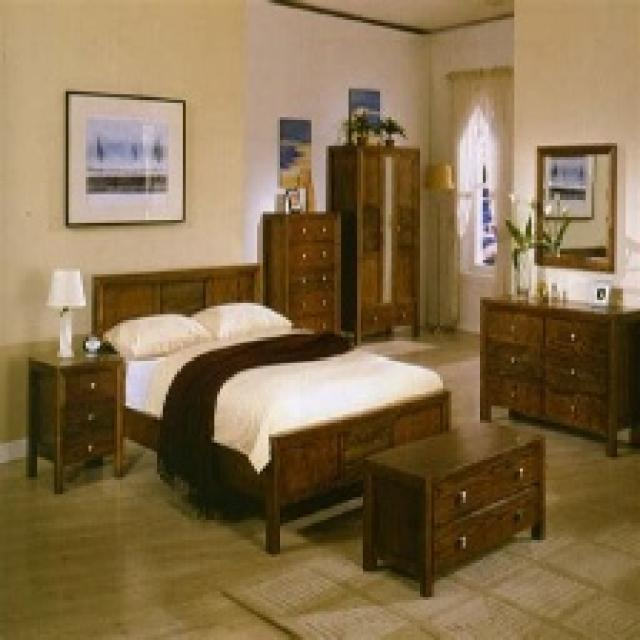Bed: (89, 263, 452, 554)
